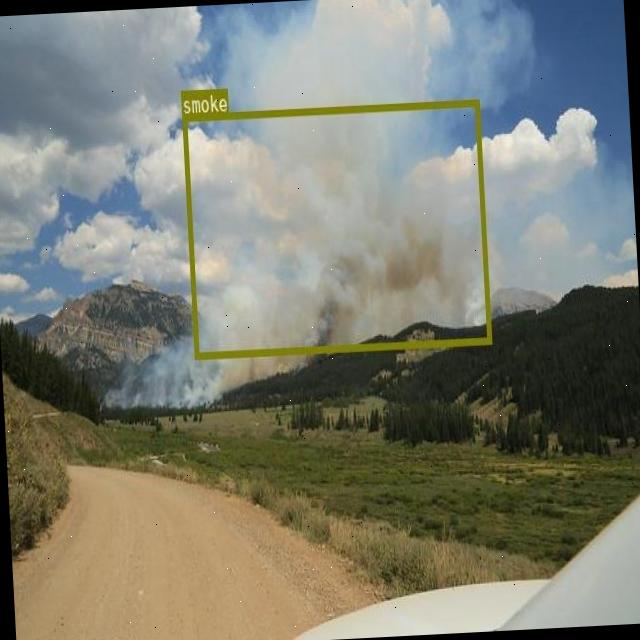smoke: (182, 99, 490, 358)
